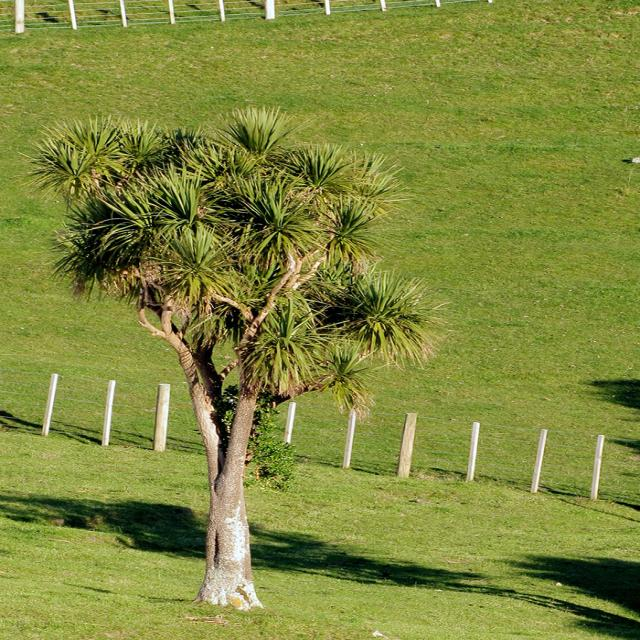Cordyline australis: (46, 122, 418, 609)
